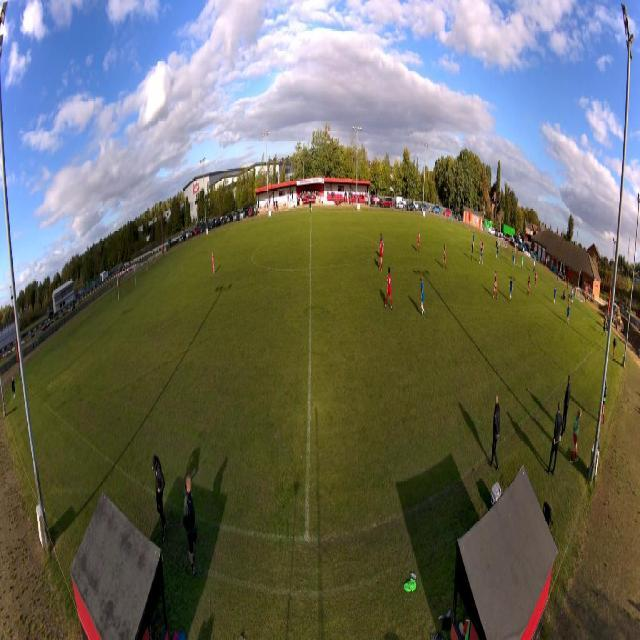ball: (572, 299, 573, 304)
player: (385, 268, 393, 310), (420, 276, 425, 317), (492, 271, 498, 300), (379, 237, 384, 271), (508, 277, 513, 303), (442, 243, 446, 269), (211, 251, 215, 275), (566, 304, 570, 325), (527, 276, 531, 296), (479, 246, 483, 265), (570, 286, 574, 305), (417, 230, 420, 252), (554, 286, 557, 305), (521, 255, 524, 272), (496, 244, 499, 260), (535, 271, 538, 287), (512, 253, 515, 269), (471, 240, 473, 260), (482, 240, 484, 257), (473, 232, 475, 248), (480, 235, 482, 250), (380, 234, 382, 246)
